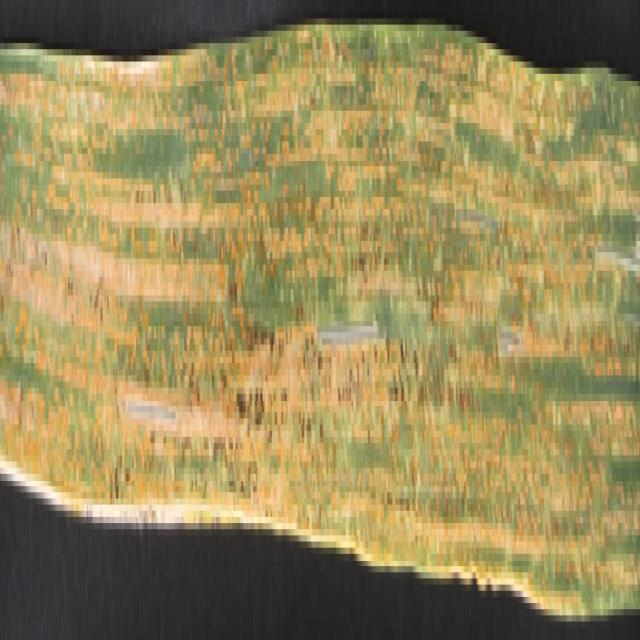leaf rust: (1, 56, 637, 578)
